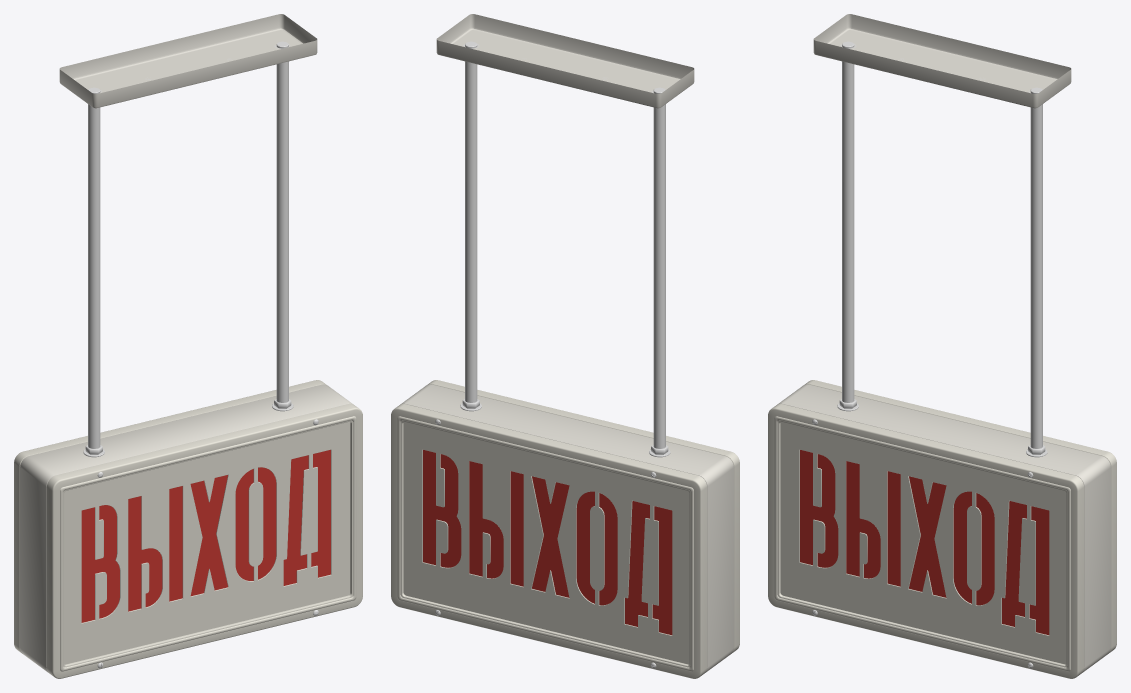
File: Kit_ExitSign_Hanging.fbx
3 renders of one model, left to right at view 1: azimuth 30°, elevation 25°; view 2: azimuth 150°, elevation 25°; view 3: azimuth 330°, elevation 25°, orthographic.
Parts seen in each view (by area): view 1: Kit_ExitSign_Hanging_LOD0; view 2: Kit_ExitSign_Hanging_LOD0; view 3: Kit_ExitSign_Hanging_LOD0.
Part boxes in pixels (box(x1,y1,x2,y2)): Kit_ExitSign_Hanging_LOD0: box(14, 14, 362, 678); Kit_ExitSign_Hanging_LOD0: box(391, 14, 739, 678); Kit_ExitSign_Hanging_LOD0: box(768, 14, 1116, 678).
Size of what is drawn, in the model's own units: 0.346 by 0.612 by 0.0789.
